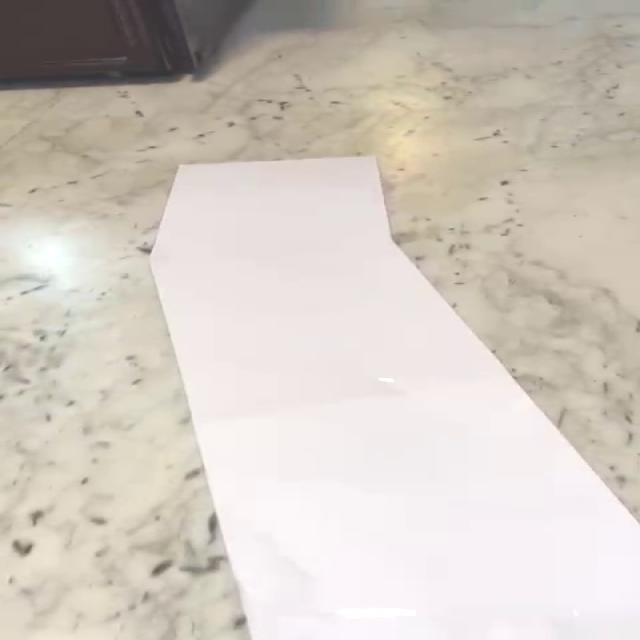road: (152, 157, 638, 640)
